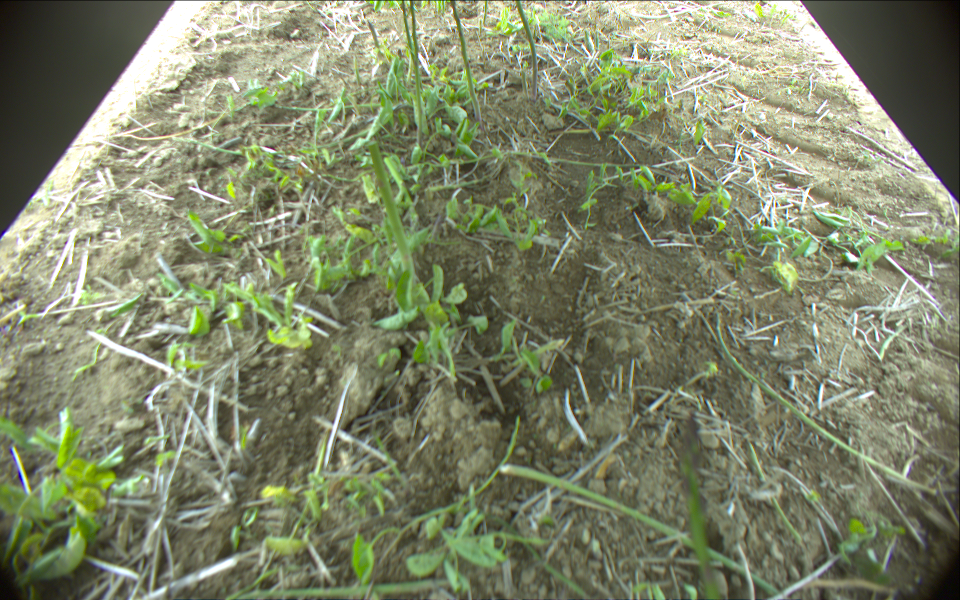aspa: (708, 310, 936, 495), (499, 459, 788, 598), (369, 139, 418, 289), (215, 575, 458, 600), (448, 1, 483, 119), (513, 1, 540, 100), (408, 1, 425, 139), (398, 1, 423, 93), (360, 17, 383, 56), (521, 69, 529, 98)
